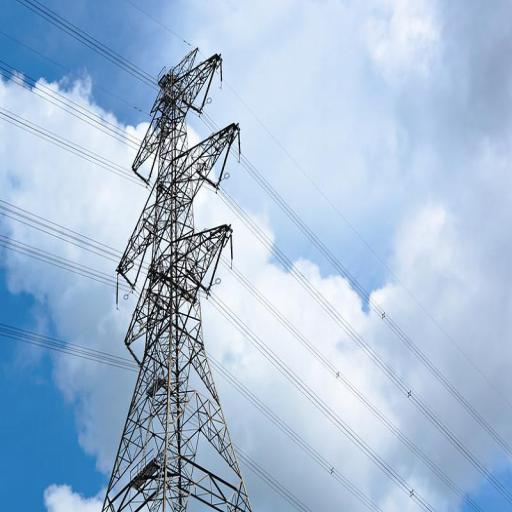ss_3: (99, 45, 252, 511)
